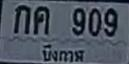0: (88, 7, 100, 35)
9: (103, 7, 117, 36), (72, 8, 84, 34)
A01: (13, 4, 30, 33)
A04: (33, 5, 49, 34)
BKN: (40, 42, 85, 63)
